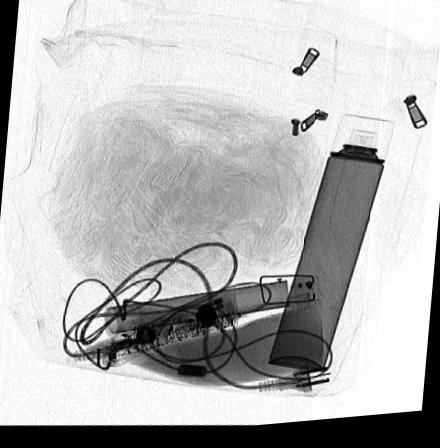Sprayer: (267, 120, 395, 377)
